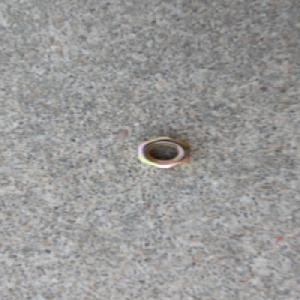Nut: (136, 136, 193, 171)
